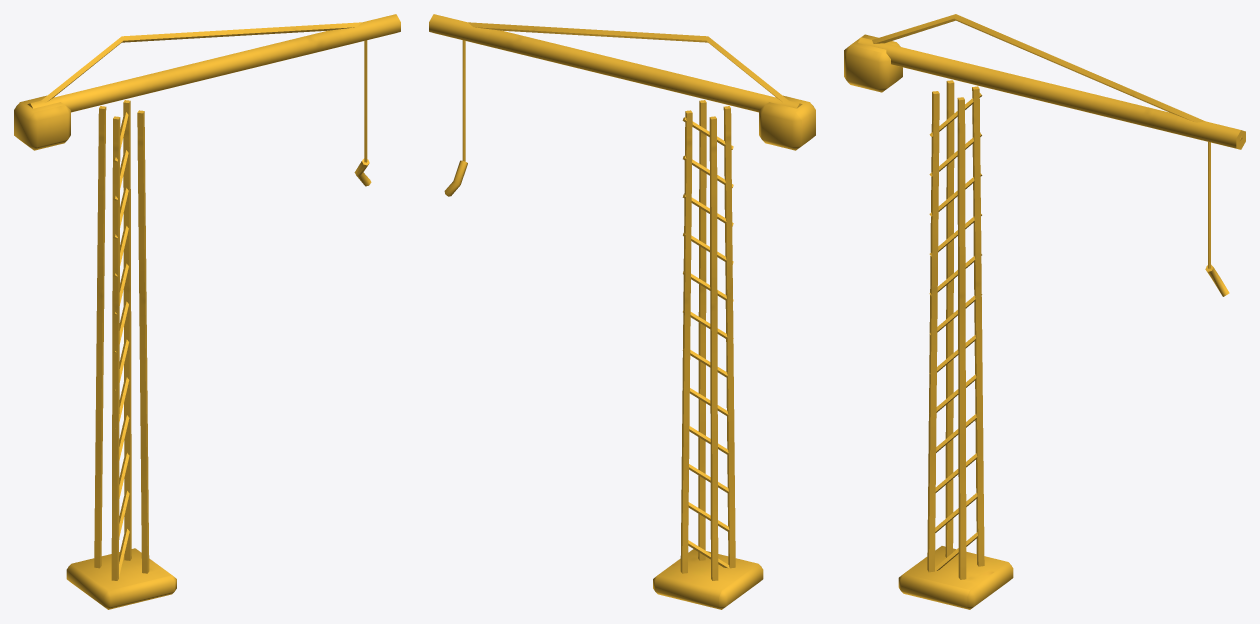
Rendered from CakeCrane.glb.
3 renders of one model, left to right at view 1: azimuth 30°, elevation 25°; view 2: azimuth 150°, elevation 25°; view 3: azimuth 330°, elevation 25°, orthographic. The views are drawn at different scales.
Visible parts, largest first — view 1: Mast, Arm; view 2: Mast, Arm; view 3: Mast, Arm.
Boxes of the visible parts, box(x1,y1,x2,y2) form: Mast: box(66, 100, 176, 609); Arm: box(14, 14, 400, 186); Mast: box(653, 100, 763, 609); Arm: box(429, 14, 815, 196); Mast: box(898, 80, 1013, 609); Arm: box(844, 14, 1245, 296).
Bounding box in the file's own units: 12.32 × 17.3 × 2.4.
2 materials, 2 textured.
